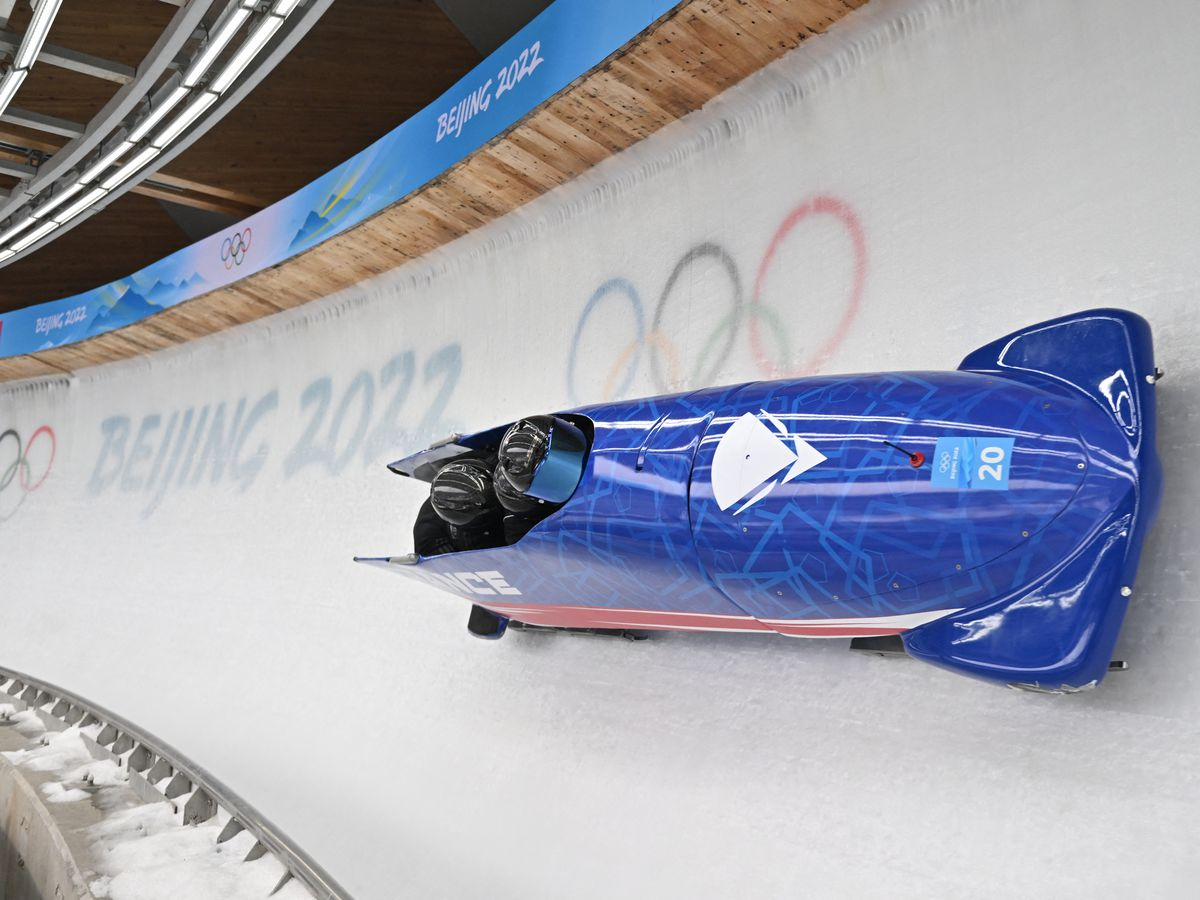Bobsleigh: (348, 307, 1147, 692)
